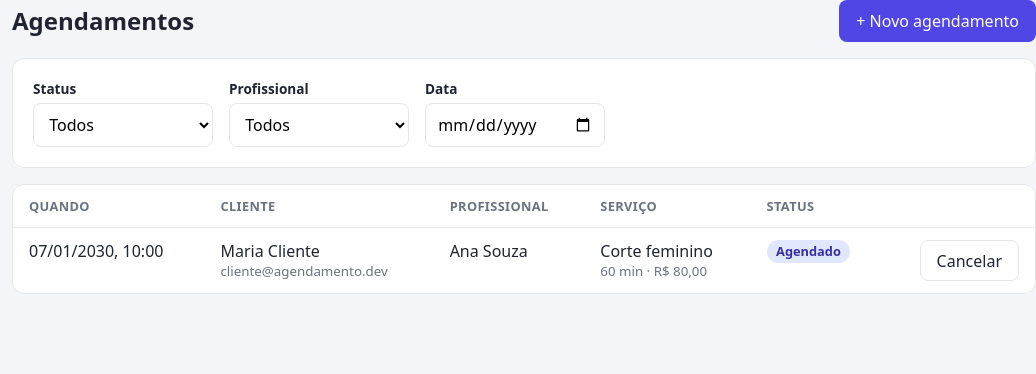
Test: AppointmentsPage › cancels a booking after confirmation and refreshes the list
The image size is (1036, 374).
Click the button "Cancelar": (969, 261) [920,240,1019,281]
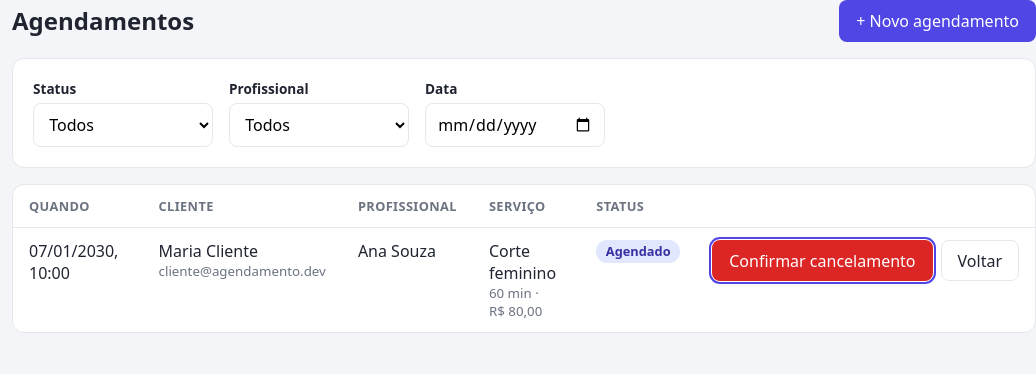
Click the button "Confirmar cancelamento": (822, 261) [712,240,932,281]
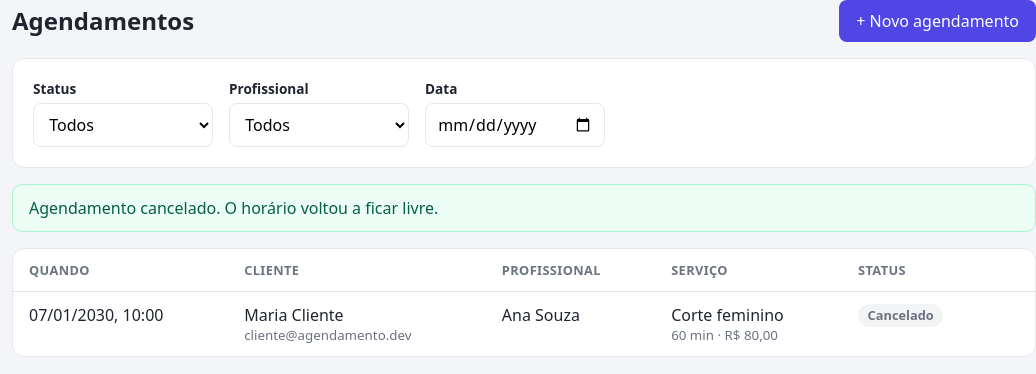
expect the message shows "O horário voltou a ficar livre": met, box [29,197,438,219]
expect the text "Cancelado" is shown: met, box [858,304,943,327]
